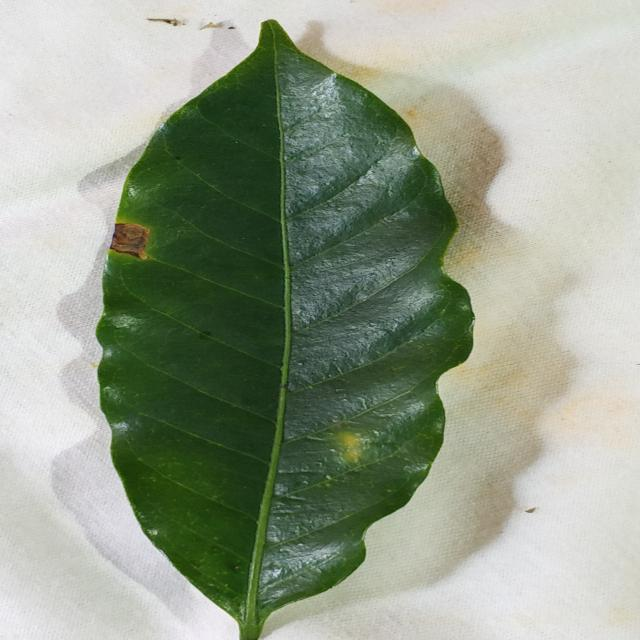Enfermedad-Roya: (94, 21, 476, 640)
